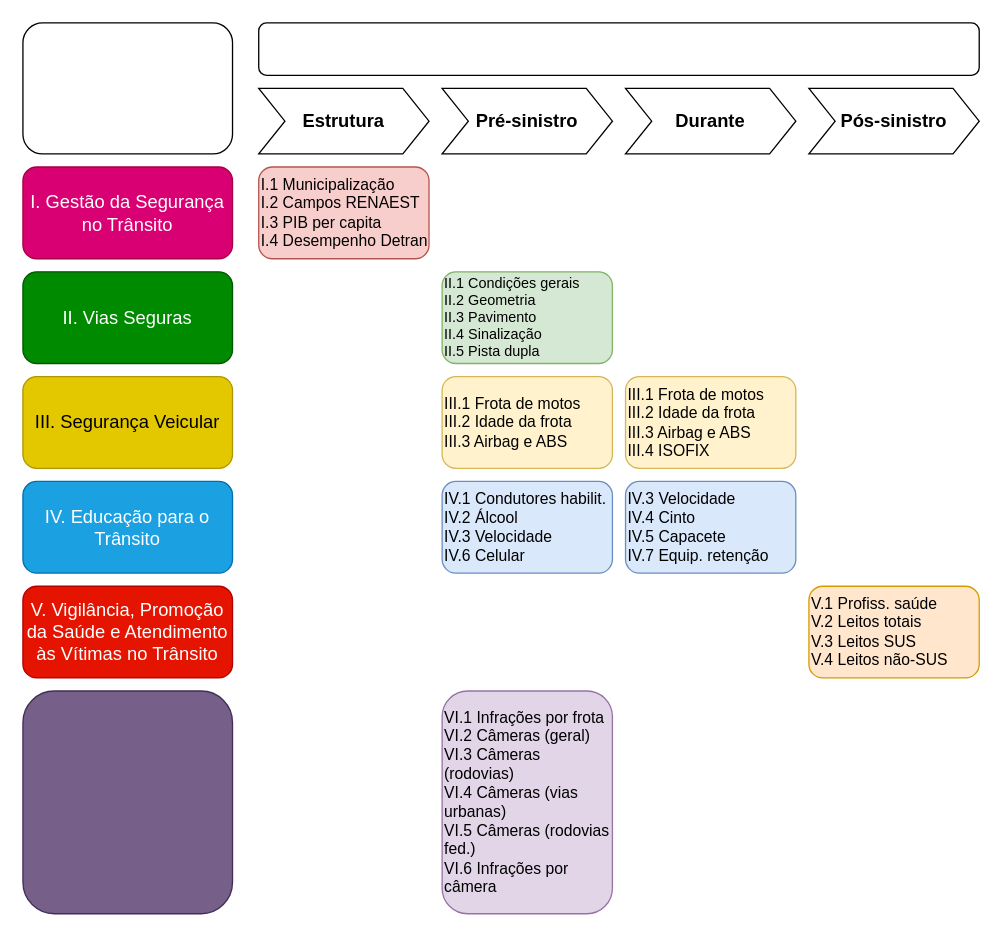
This 1002x937 diagram has some shape labels left out. Each missing label, with the box of its shape:
Linha do tempo dos indicadores na ocorrência e severidade dos sinistros: (257, 22, 979, 75)
Pilares Pnatrans: (22, 22, 233, 154)
VI. Normatização e Fiscalização: (22, 690, 233, 914)
